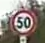limite 50: (10, 9, 37, 34)
